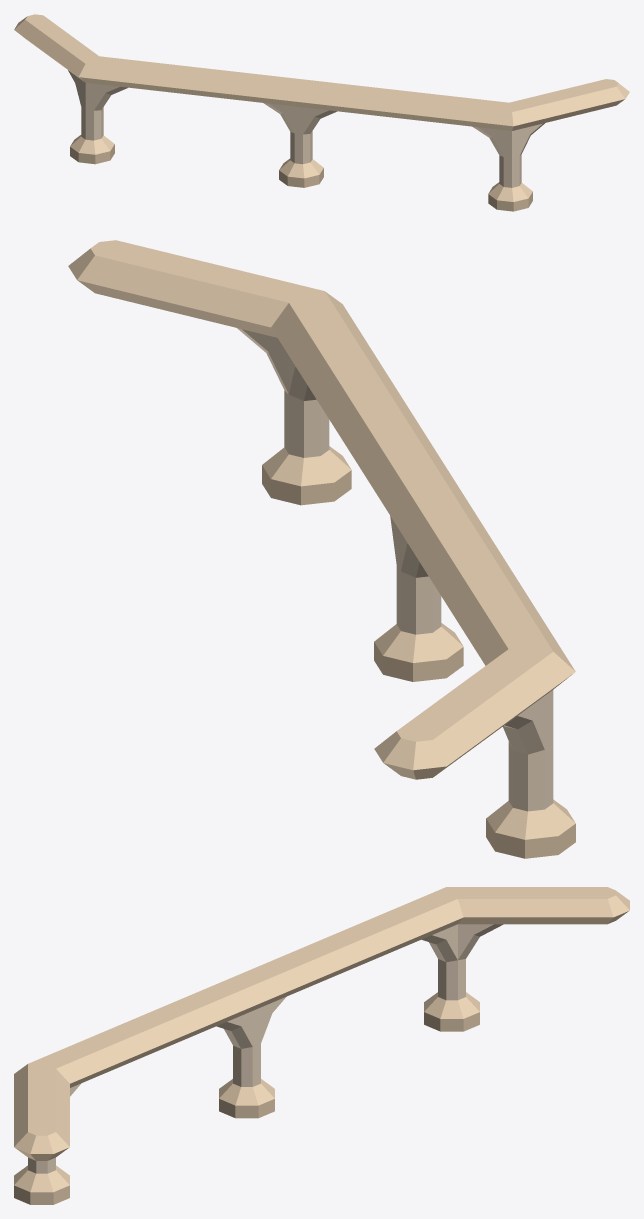
Rendered from temple_Balcony_Railing_Tower.glb.
3 renders of one model, top to bottom at view 1: azimuth 30°, elevation 25°; view 2: azimuth 150°, elevation 25°; view 3: azimuth 270°, elevation 25°, orthographic. The views are drawn at different scales.
Parts seen in each view (by area): view 1: object1; view 2: object1; view 3: object1.
Boxes of the visible parts, <box> form: object1: <box>14,14,629,211</box>; object1: <box>68,240,575,858</box>; object1: <box>14,887,629,1204</box>.
Bounding box in the file's own units: 2.2 × 0.5 × 2.2.
